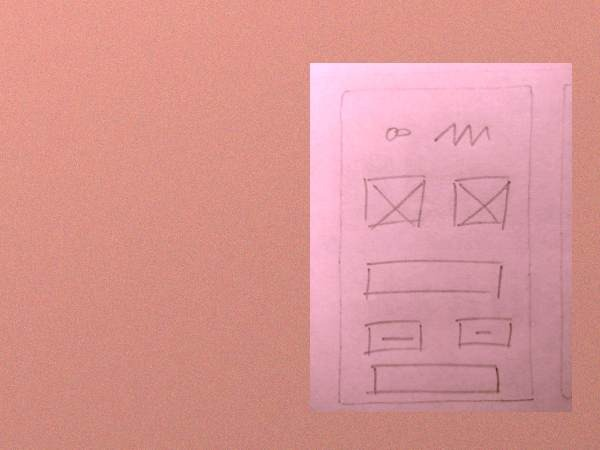button: (451, 311, 516, 354), (361, 317, 428, 356)
image: (357, 172, 434, 231), (449, 172, 513, 235)
switch: (376, 119, 422, 148)
text: (431, 119, 498, 152)
text_input: (358, 257, 509, 302), (364, 360, 506, 398)
